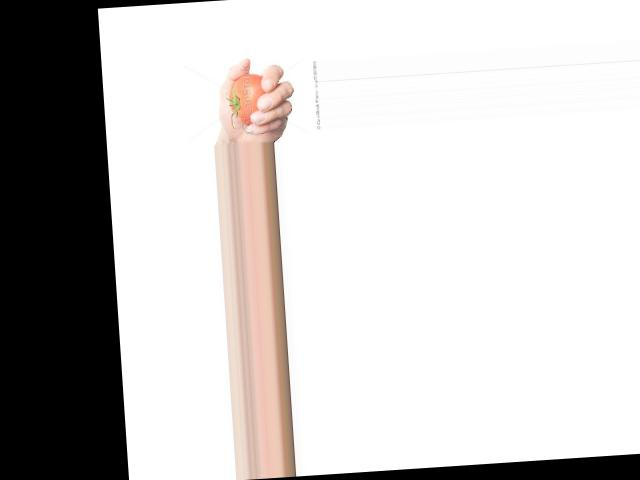tomato: (228, 72, 266, 125)
